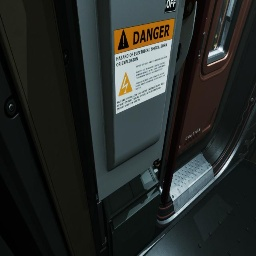SafetySwitchPanel ,: (71, 0, 198, 202)
